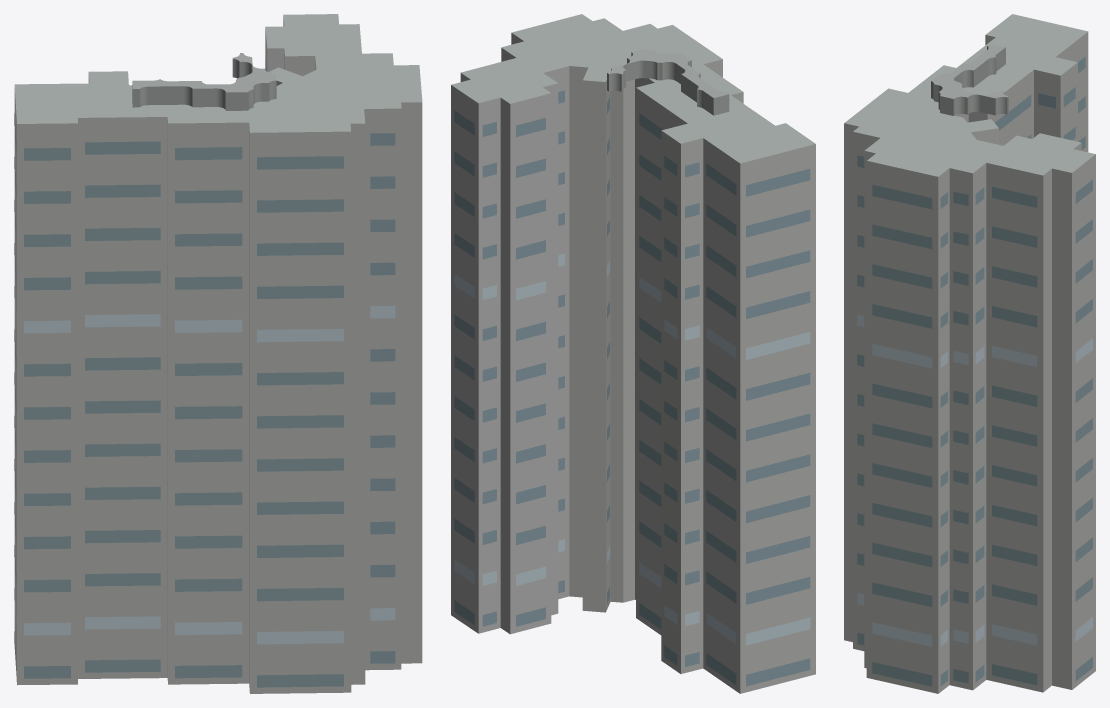
File: fallback-mapo-raemian-prugio-completion-413.glb
The picture shows the model from 3 angles, left to right: view 1: azimuth 30°, elevation 25°; view 2: azimuth 150°, elevation 25°; view 3: azimuth 270°, elevation 25°; orthographic projection. The views are drawn at different scales.
Parts seen in each view (by area): view 1: fallback-mapo-raemian-prugio-completion-413; view 2: fallback-mapo-raemian-prugio-completion-413; view 3: fallback-mapo-raemian-prugio-completion-413.
Boxes of the visible parts, box(x1,y1,x2,y2) form: fallback-mapo-raemian-prugio-completion-413: box(14, 14, 422, 693); fallback-mapo-raemian-prugio-completion-413: box(451, 14, 815, 693); fallback-mapo-raemian-prugio-completion-413: box(844, 14, 1095, 693).
Bounding box in the file's own units: 49.05 × 75 × 32.03.
